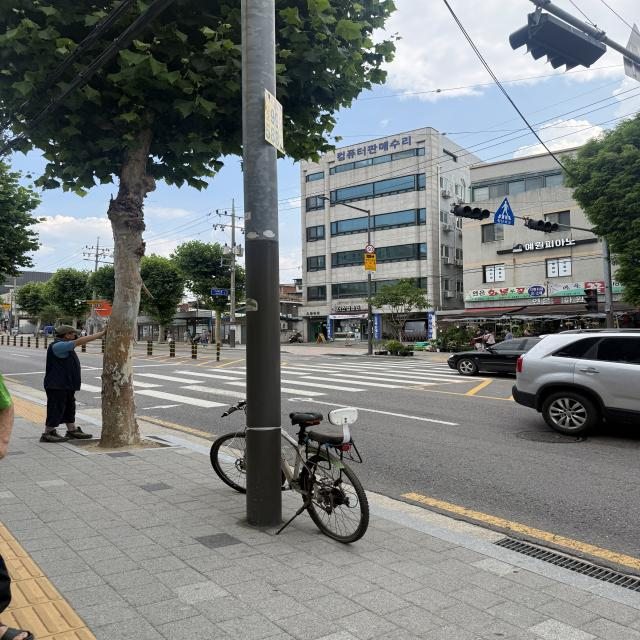bicycle: (198, 383, 380, 564)
